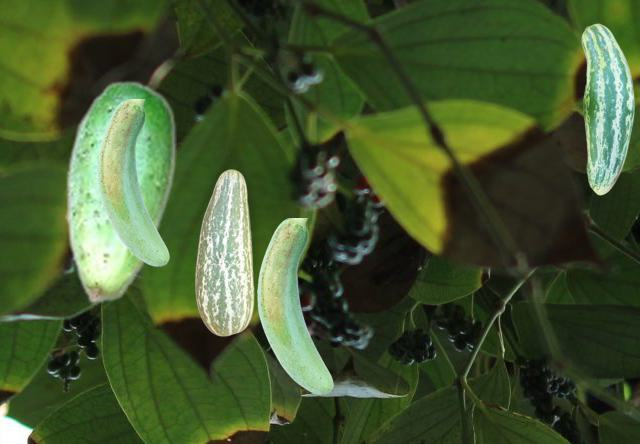cucumber: (65, 79, 175, 303), (257, 218, 332, 393), (97, 99, 168, 265), (195, 169, 253, 335), (581, 23, 633, 194)
